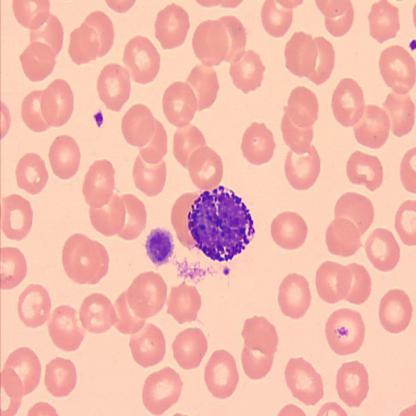Basophil: (185, 182, 255, 264)
